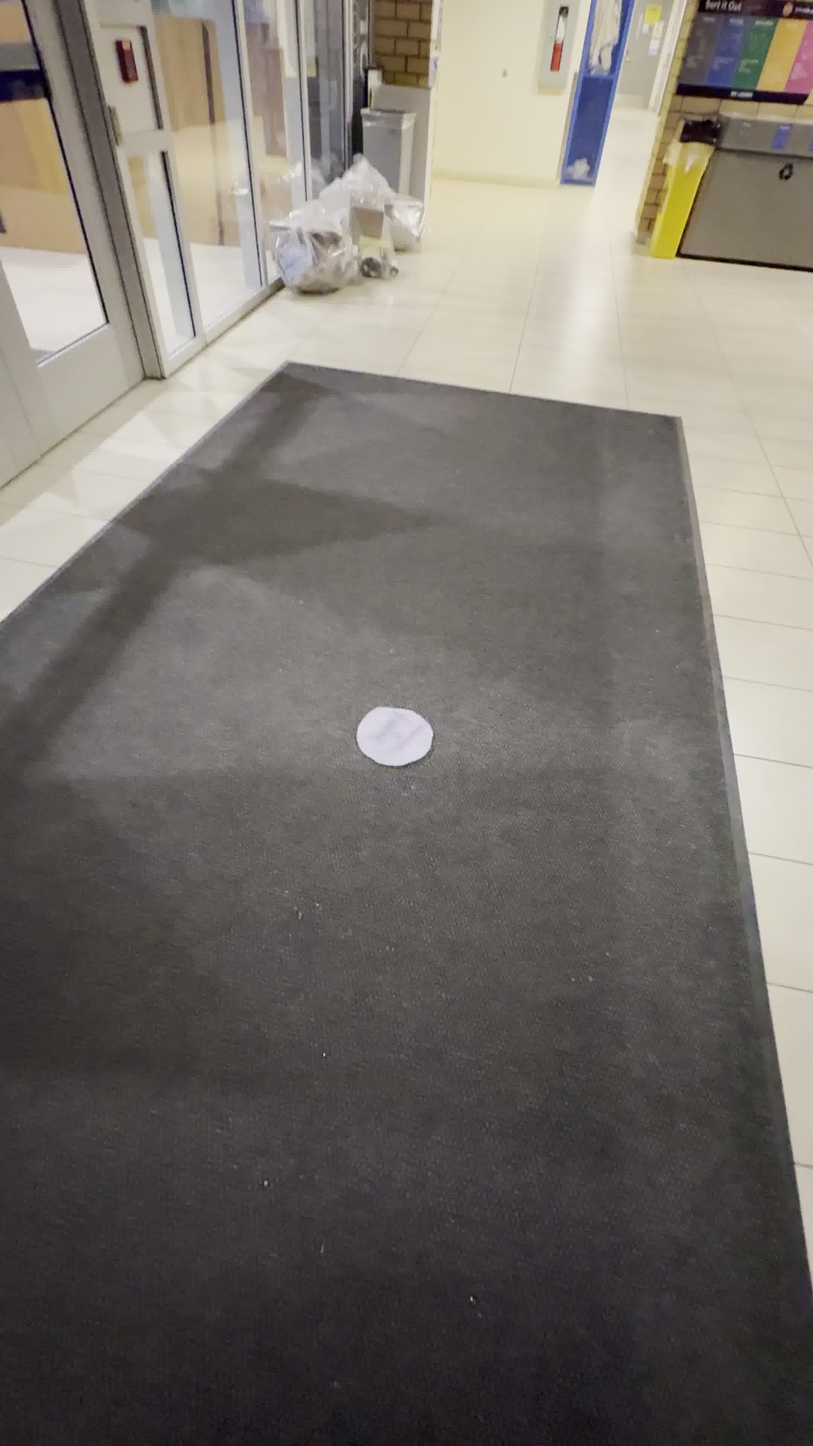Target: (355, 706, 433, 767)
